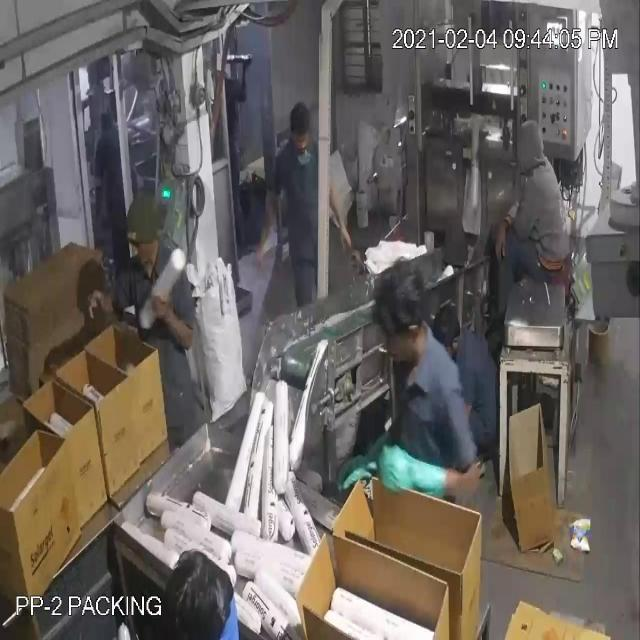Gloves: (30, 52, 502, 473)
